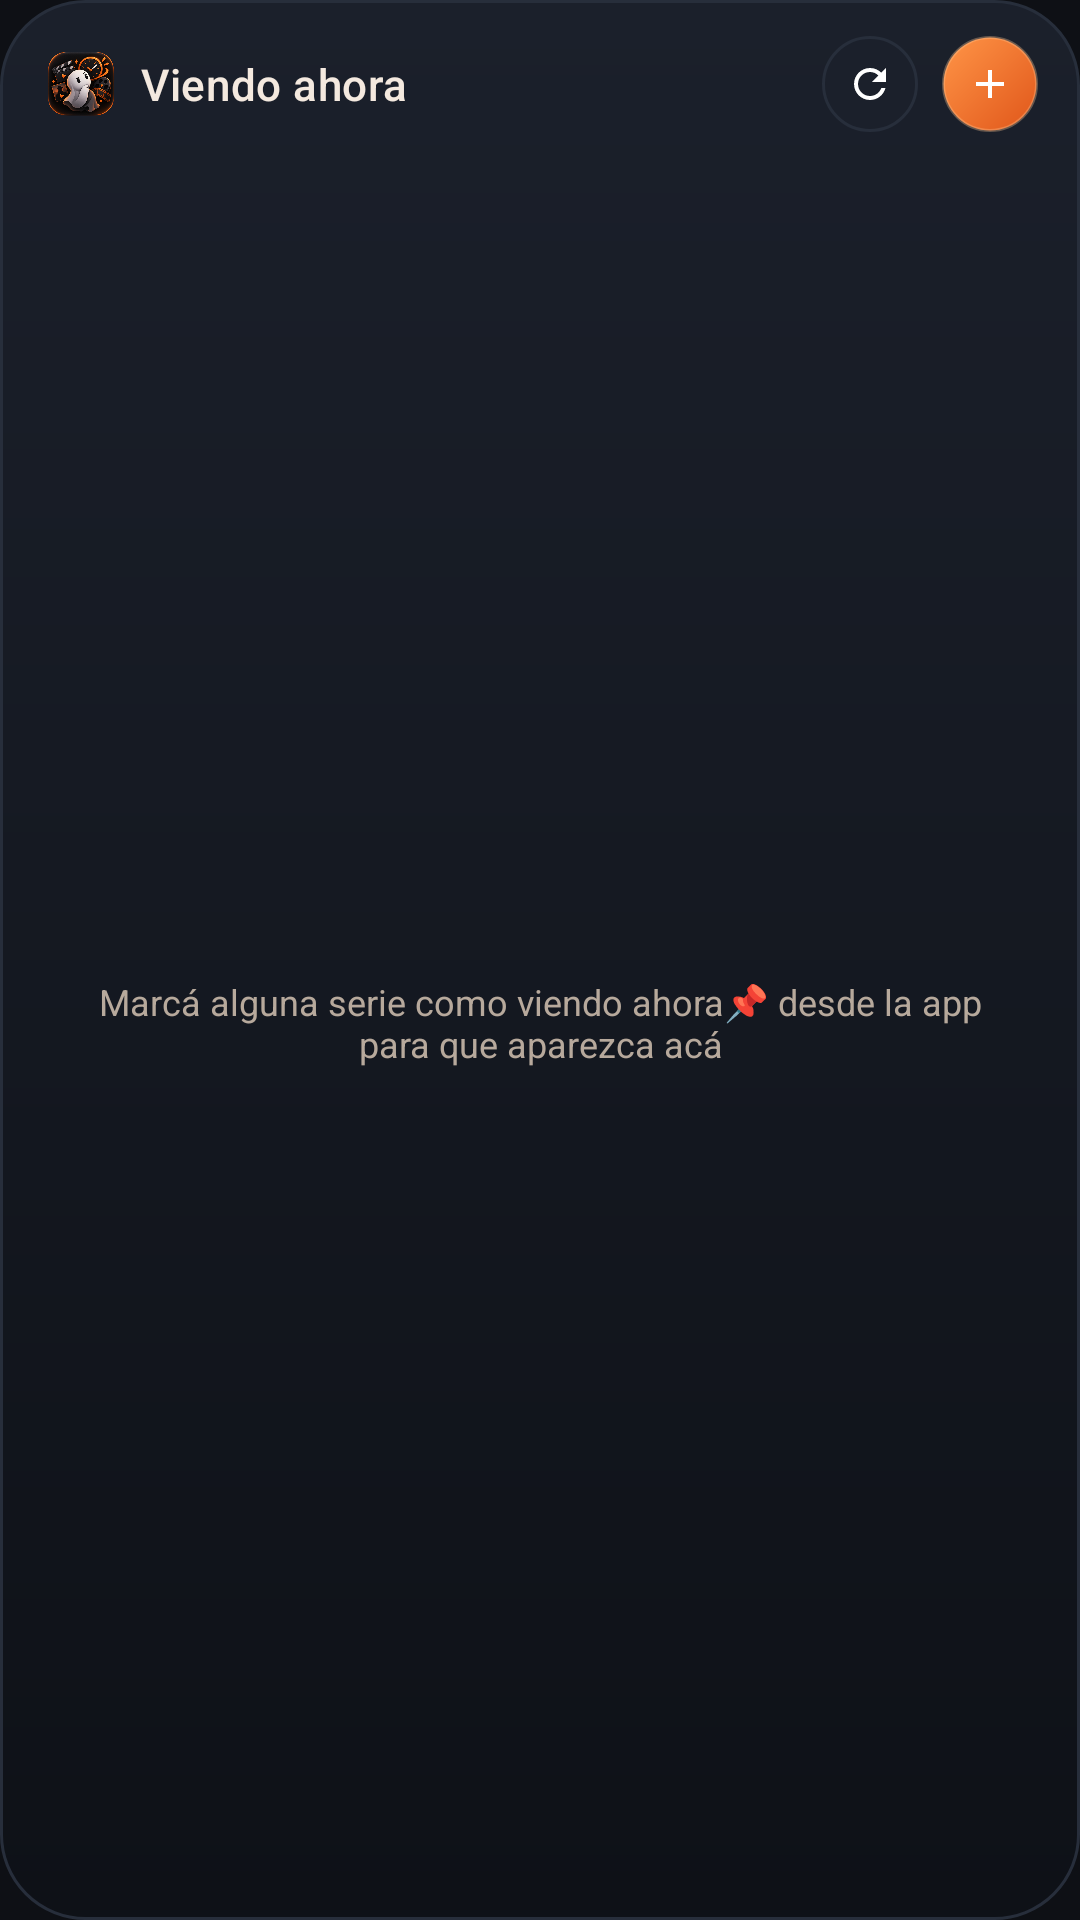

Where icons sit on this 1080x1920 app screen, as (x1, y1, x2, y2):
widget plus: (942, 36, 1038, 132)
widget refresh: (854, 68, 886, 100)
